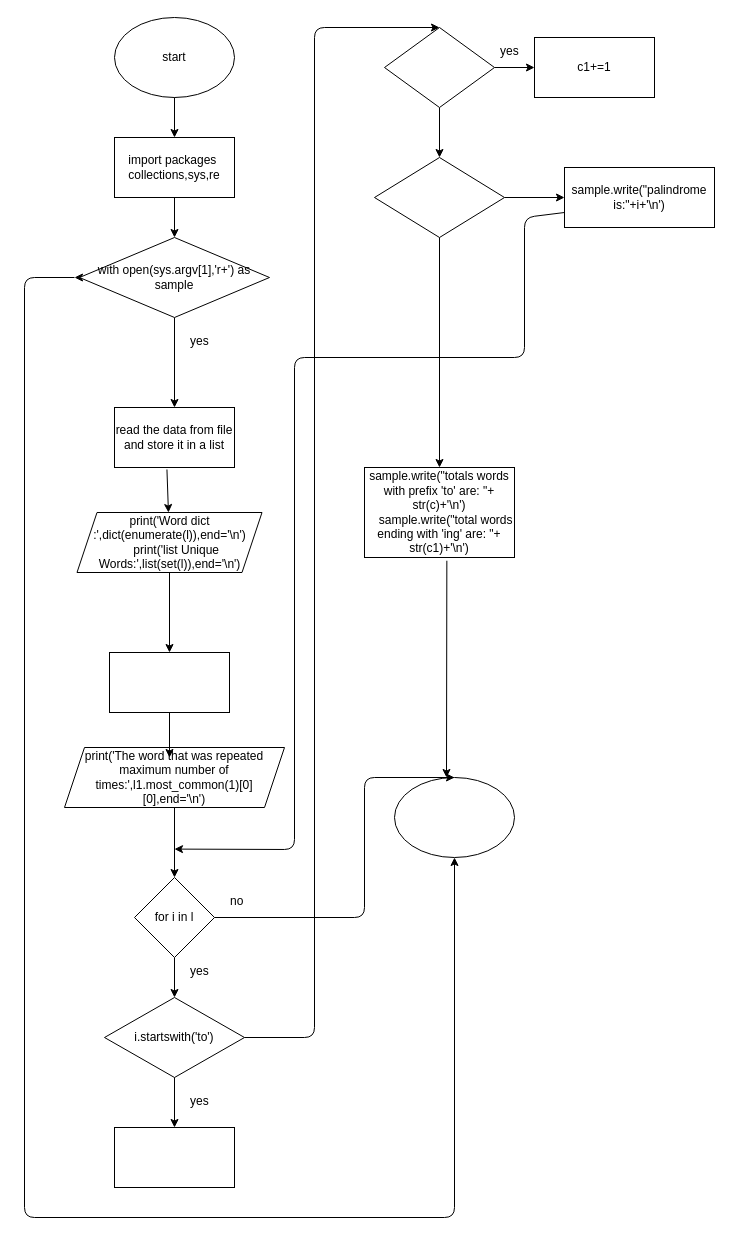
The diagram is 732 pixels wide and 1243 high, and some of its shapes have lost their labels. The centre of each missing label's shape, as x and y in pixels:
"c+=1" goes at point (174, 1157).
"c,c1,c3=0,0,0 l1=Counter(l)" goes at point (169, 682).
"end" goes at point (454, 817).
"i.endswith('ing')" goes at point (439, 67).
"i==i[::-1] and len(i)>1" goes at point (439, 197).
